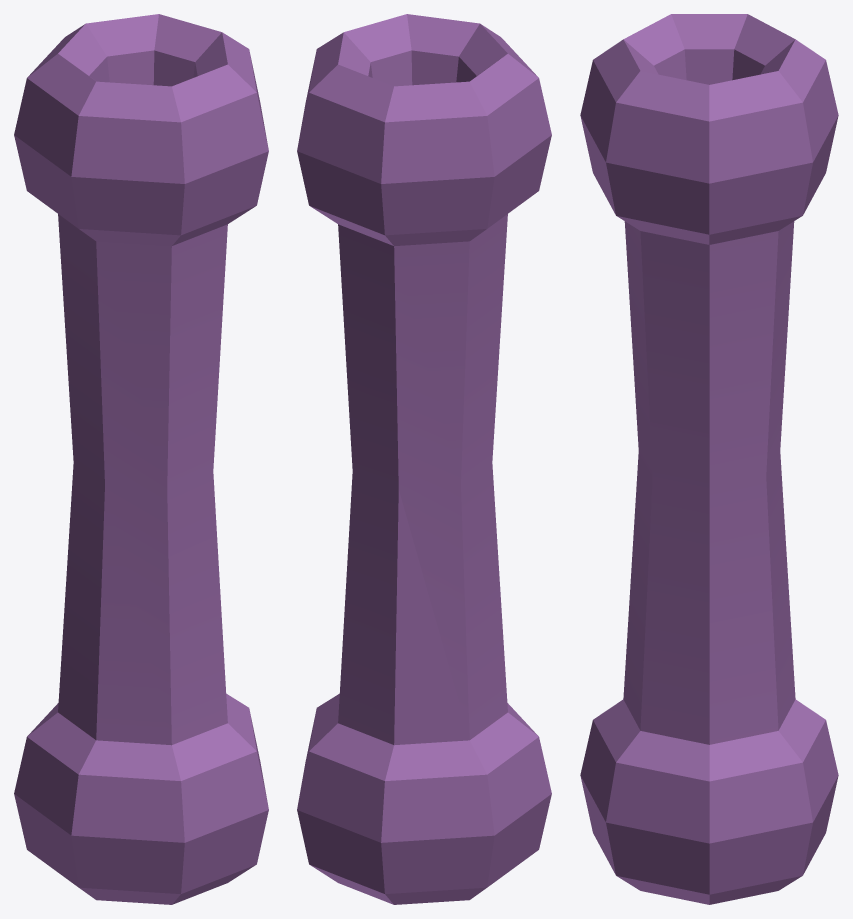
The model's file is antiquePillar_1.fbx.
The picture shows the model from 3 angles, left to right: view 1: azimuth 30°, elevation 25°; view 2: azimuth 150°, elevation 25°; view 3: azimuth 270°, elevation 25°; orthographic projection.
Parts seen in each view (by area): view 1: antiquePillar_4; view 2: antiquePillar_4; view 3: antiquePillar_4.
Part boxes in pixels (x1=…): antiquePillar_4: x1=14, y1=14, x2=268, y2=904; antiquePillar_4: x1=297, y1=14, x2=551, y2=904; antiquePillar_4: x1=580, y1=14, x2=838, y2=904.
Bounding box in the file's own units: 14.92 × 53.6 × 15.3.
